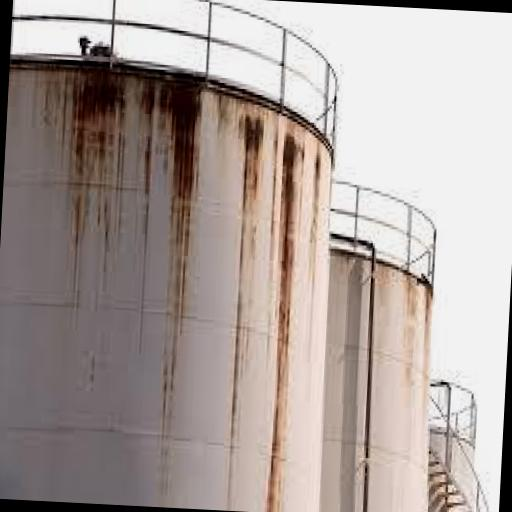segmentation: (140, 81, 200, 394), (269, 135, 306, 510), (232, 115, 267, 455), (72, 72, 129, 237)
